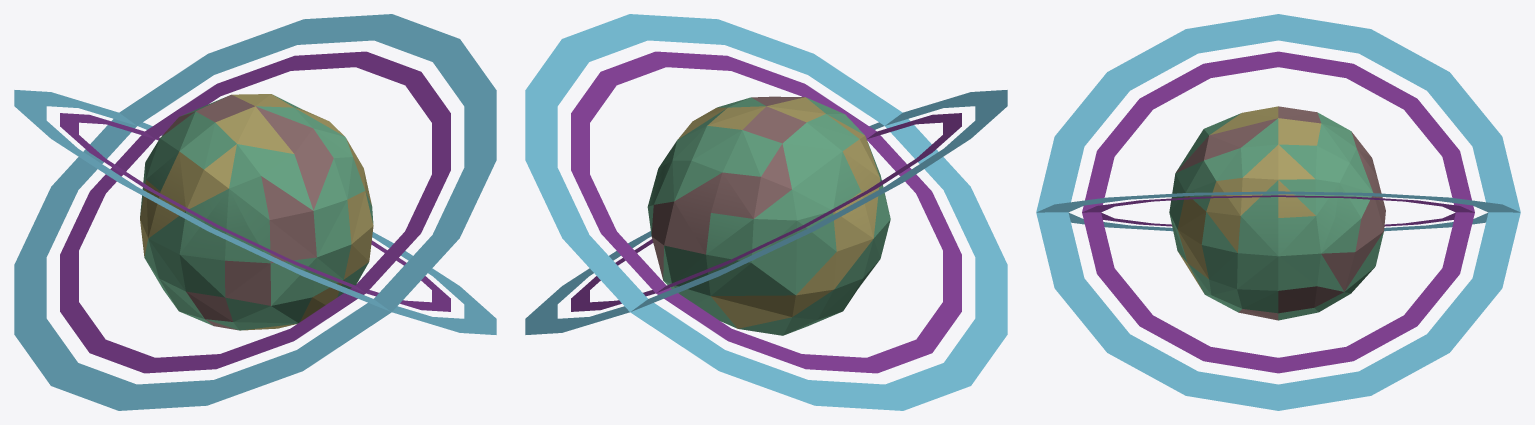
File: Planet.glb
3 renders of one model, left to right at view 1: azimuth 30°, elevation 25°; view 2: azimuth 150°, elevation 25°; view 3: azimuth 270°, elevation 25°, orthographic. The views are drawn at different scales.
Parts seen in each view (by area): view 1: Lo_poly_Planet_01_by_Liz_Reddington; view 2: Lo_poly_Planet_01_by_Liz_Reddington; view 3: Lo_poly_Planet_01_by_Liz_Reddington.
Boxes of the visible parts, x1=… form: Lo_poly_Planet_01_by_Liz_Reddington: x1=14, y1=14, x2=496, y2=410; Lo_poly_Planet_01_by_Liz_Reddington: x1=525, y1=14, x2=1007, y2=410; Lo_poly_Planet_01_by_Liz_Reddington: x1=1036, y1=14, x2=1520, y2=410.
Size of the model in its own units: 1151 by 665 by 1329.
